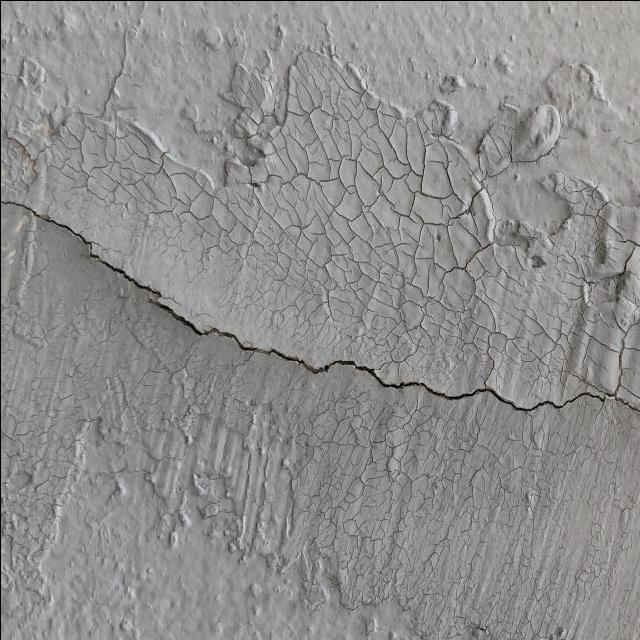SurfaceCrack: (0, 199, 638, 436)
